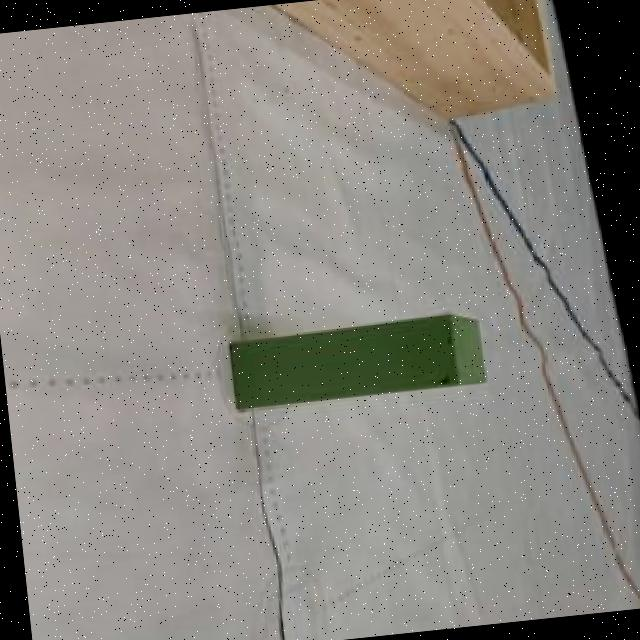greenbox: (225, 306, 492, 413)
